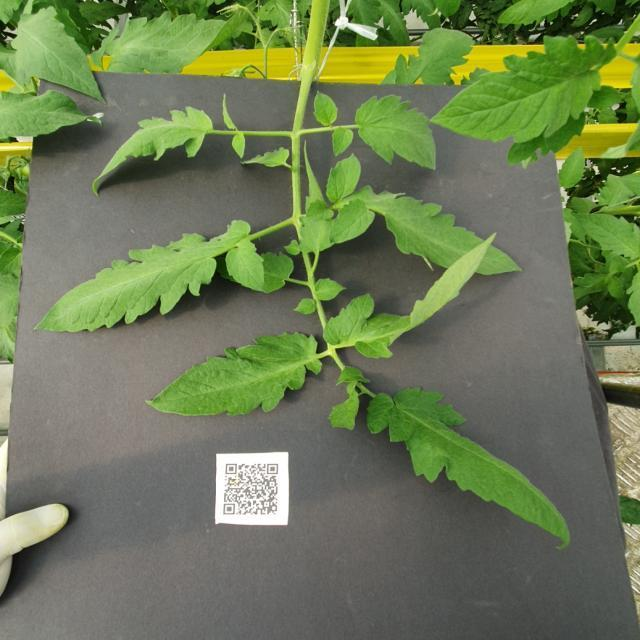Healthy: (366, 386, 572, 553), (33, 220, 266, 333), (428, 33, 618, 145), (329, 185, 524, 278), (146, 331, 323, 419), (91, 105, 214, 197), (353, 94, 437, 173)
